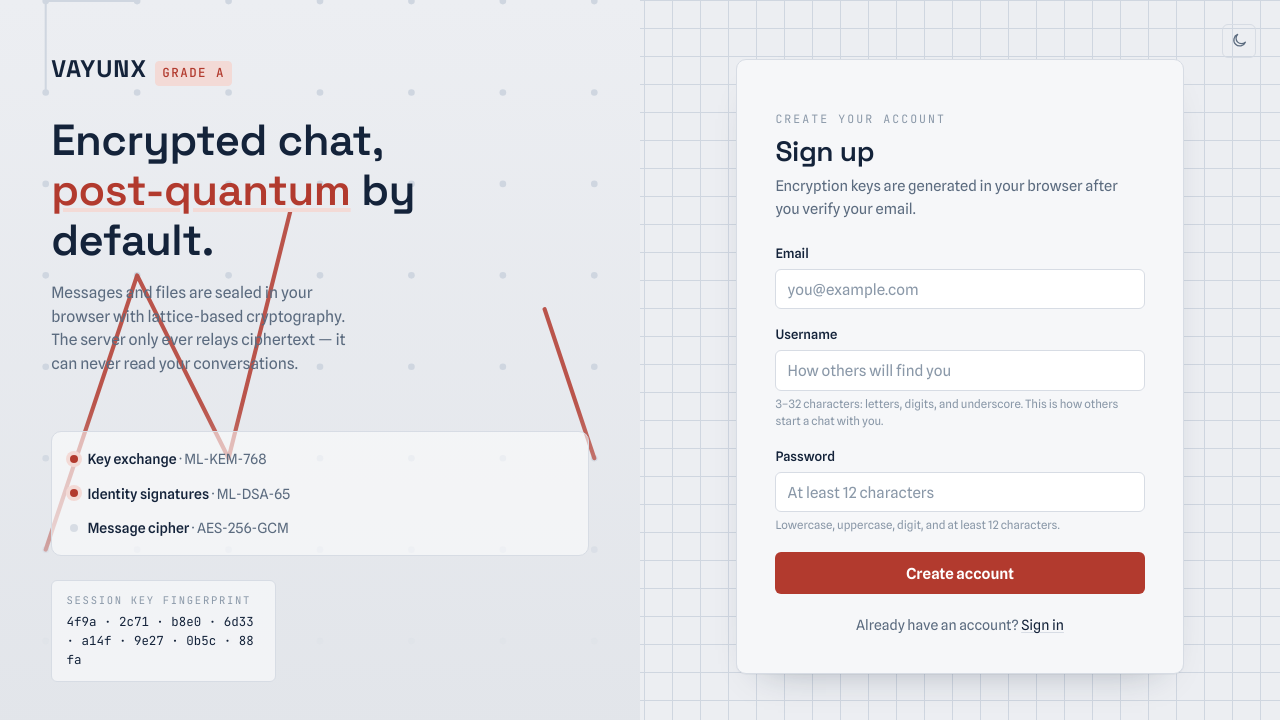
Test: Register page › shows the post-registration state on a 201
This screenshot has width=1280, height=720.
Step 1. Type "alice@example.com" into the field labelled "Email" → (960, 289), box [775, 269, 1145, 309]
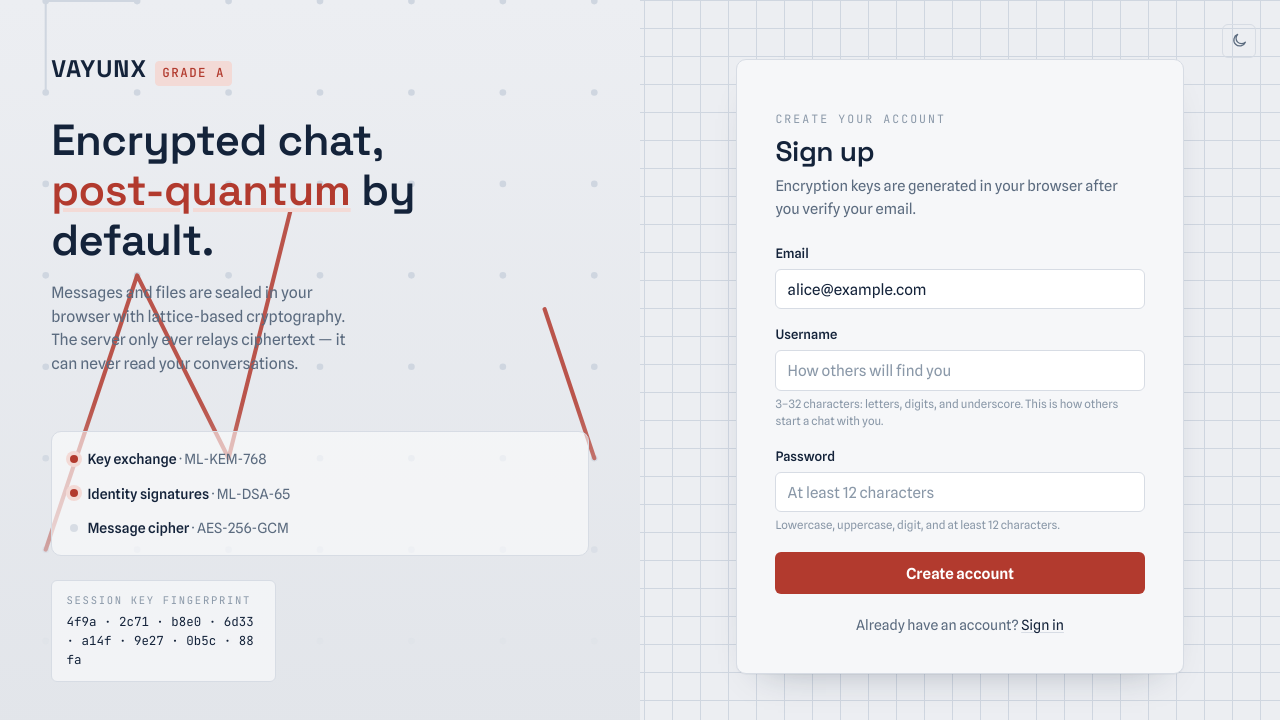
Step 2. Type "alice" into the field labelled "Username" → (960, 370), box [775, 350, 1145, 391]
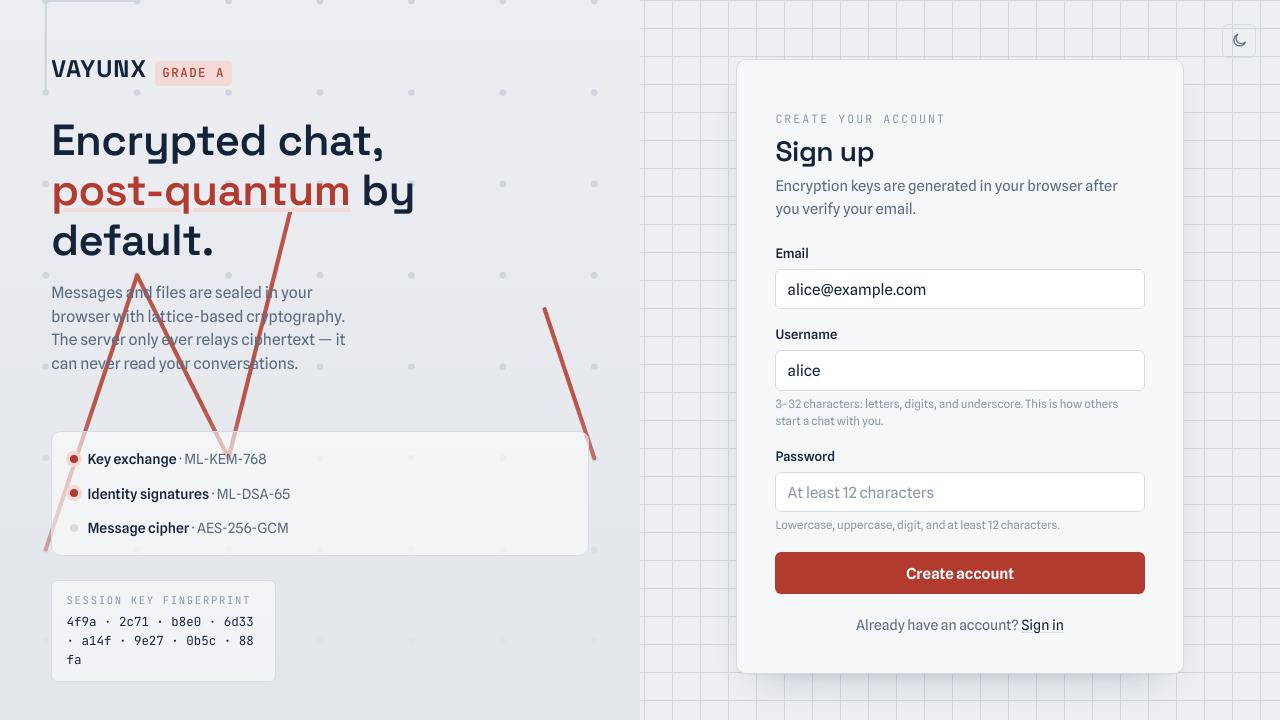
Step 3. Type "Sup3rSecret!" into the password field labelled "Password" → (960, 492), box [775, 472, 1145, 512]
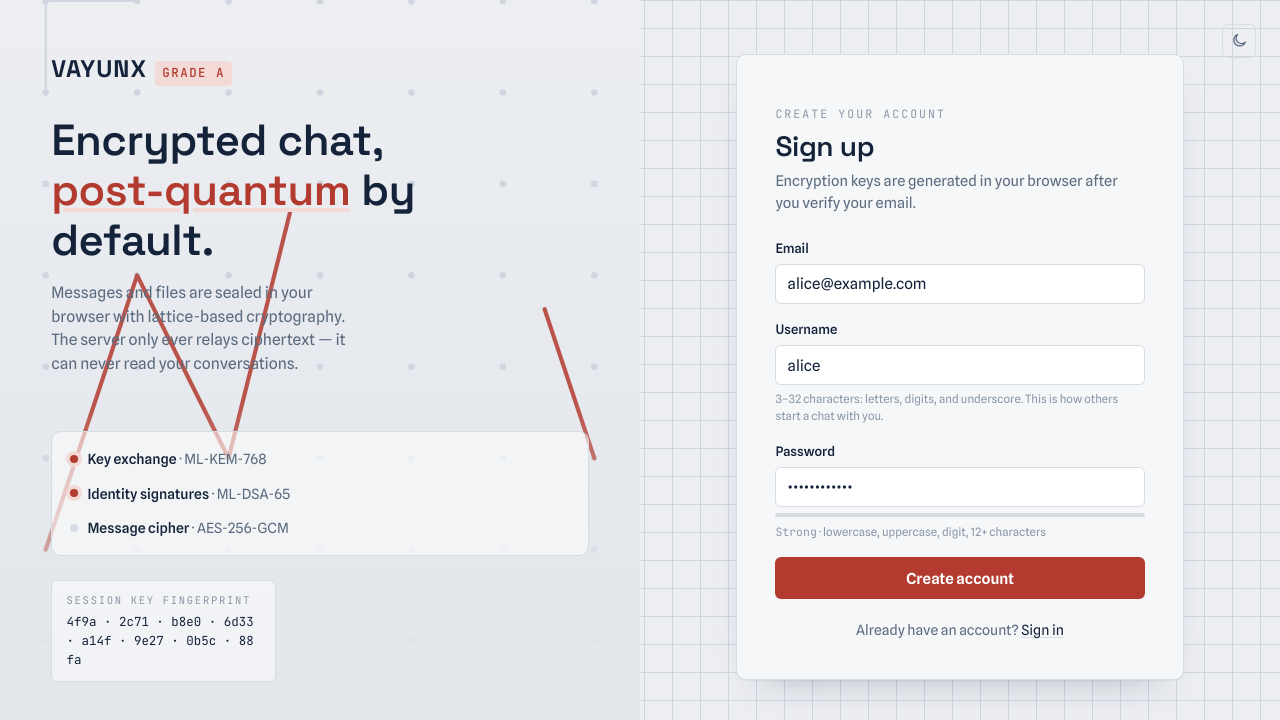
Step 4. Click the button "Create account" → (960, 578), box [775, 557, 1145, 599]
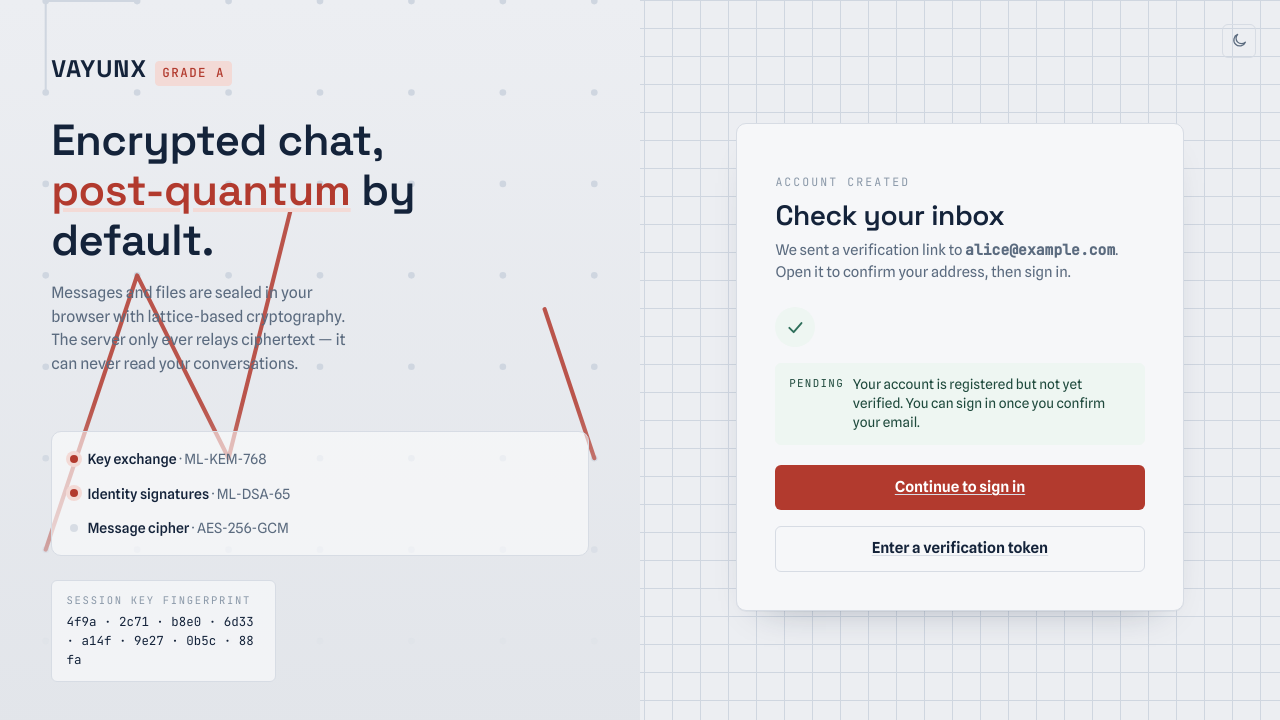
Expected: the heading "Check your inbox" is shown, [775, 197, 1004, 233]
Expected: the text "alice@example.com" is shown, [965, 240, 1115, 259]
